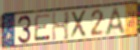2: (90, 9, 105, 38)
3: (16, 14, 32, 45)
A: (104, 6, 128, 37)
E: (33, 13, 52, 43)
H: (51, 10, 71, 43)
X: (70, 9, 88, 40)
